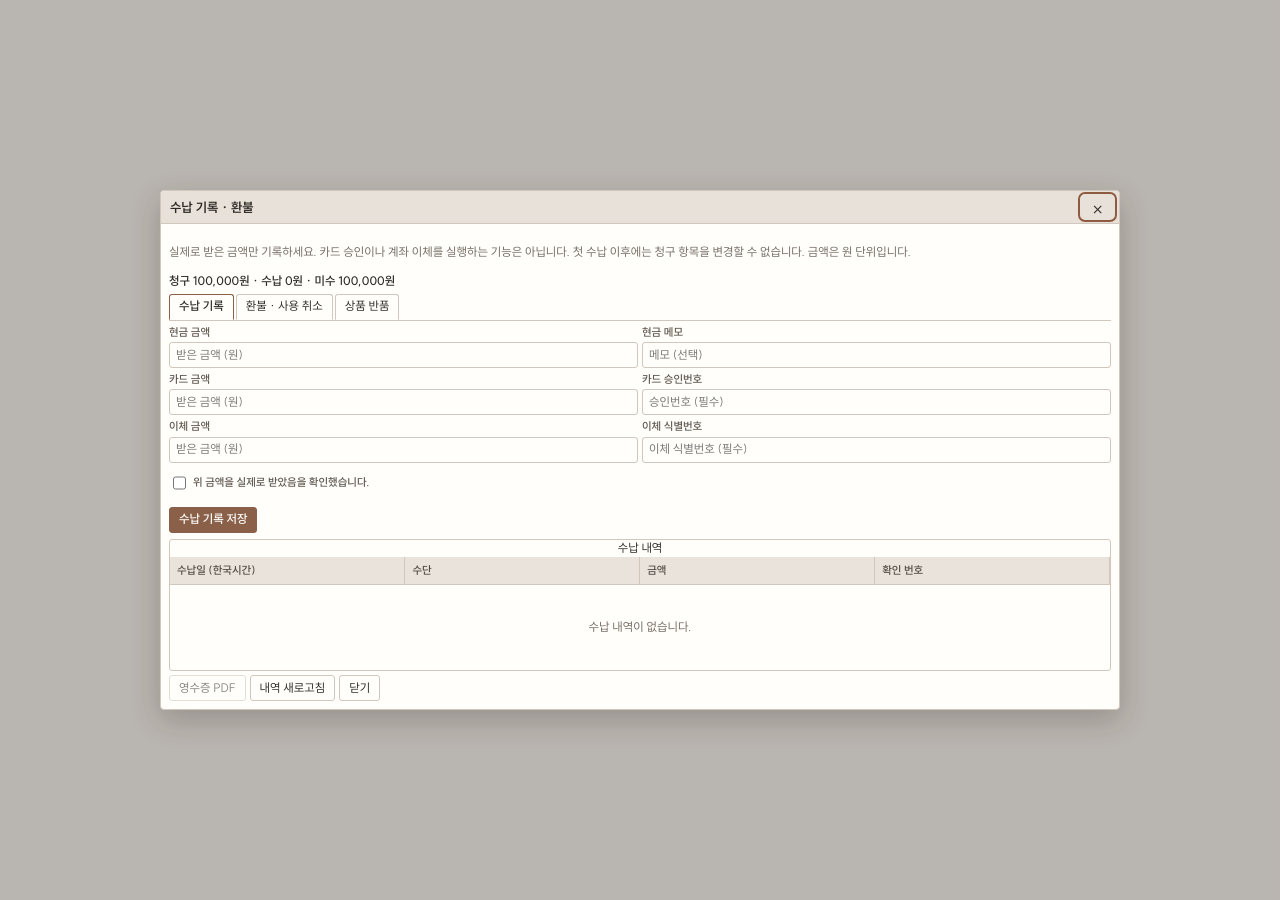
Test: PaymentDialog 수납·환불·반품 › 금액이 숫자가 아니면 요청하지 않는다
Expected: the text "청구 100,000원 · 수납 0원 · 미수 100,000원" is shown, left=169, top=273, right=395, bottom=288
Type "10.5" into the field labelled "현금 금액" at (404, 355), box left=169, top=342, right=638, bottom=368
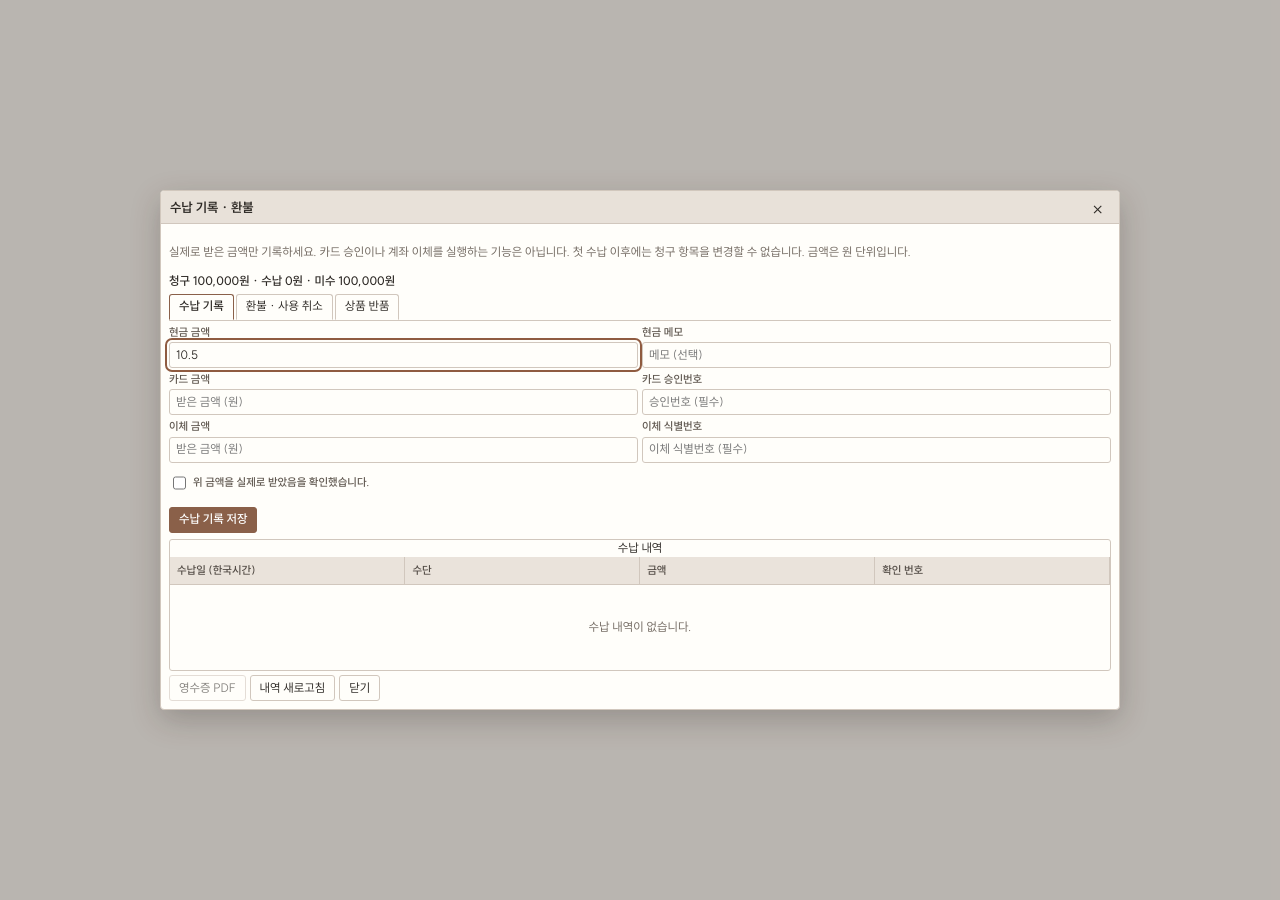
Click the checkbox labelled "위 금액을 실제로 받았음을 확인했습니다." at (180, 483), box left=173, top=470, right=186, bottom=496
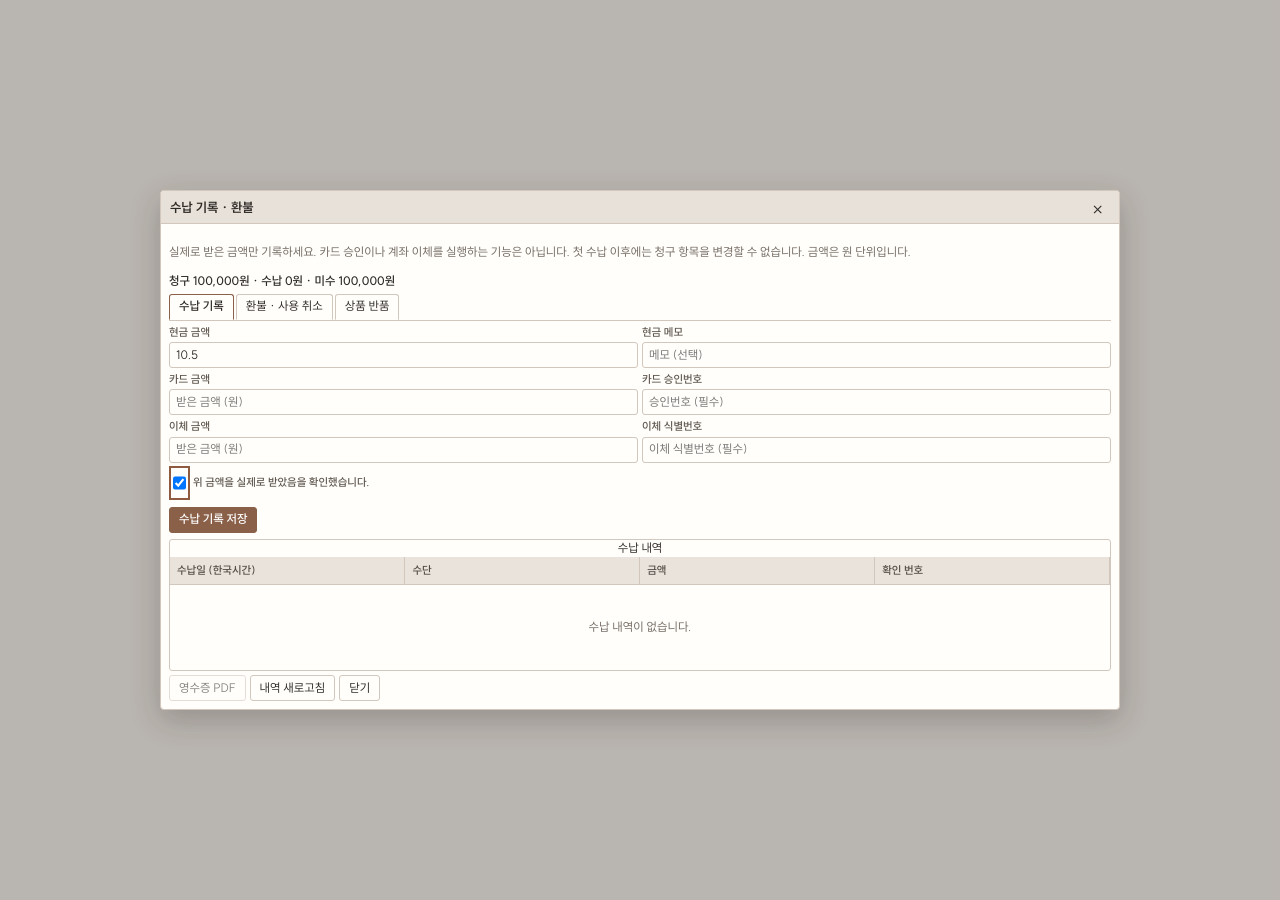
Click the button "수납 기록 저장" at (213, 520), box left=169, top=507, right=258, bottom=533
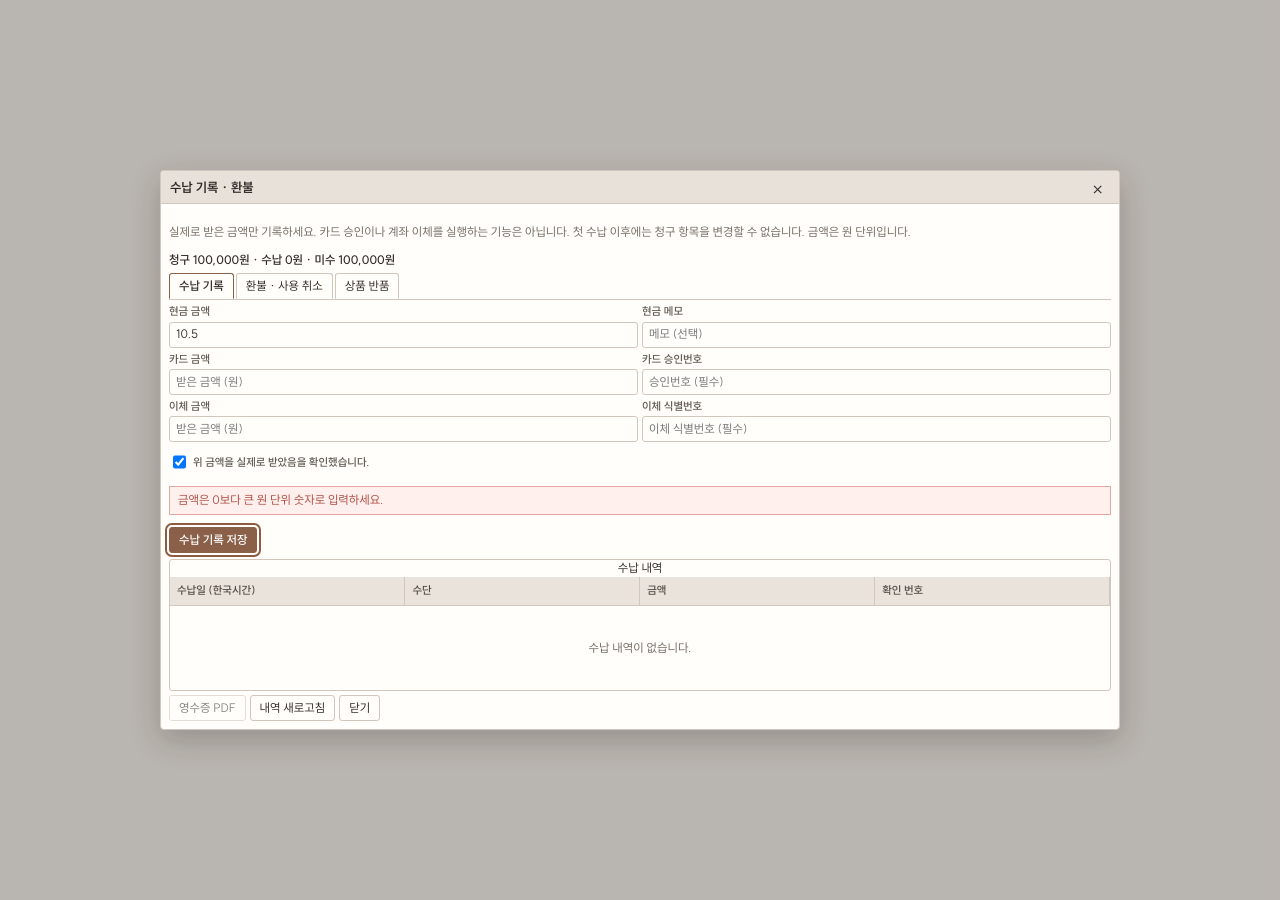
Expected: the message reads "금액은 0보다 큰 원 단위 숫자로 입력하세요.", left=178, top=492, right=384, bottom=507
